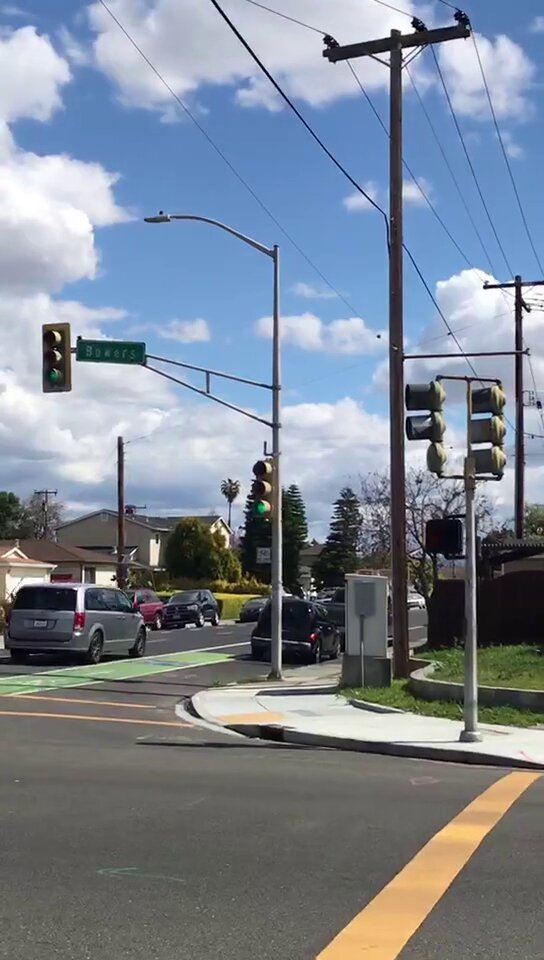green_light: (43, 323, 69, 392), (256, 461, 274, 518)
